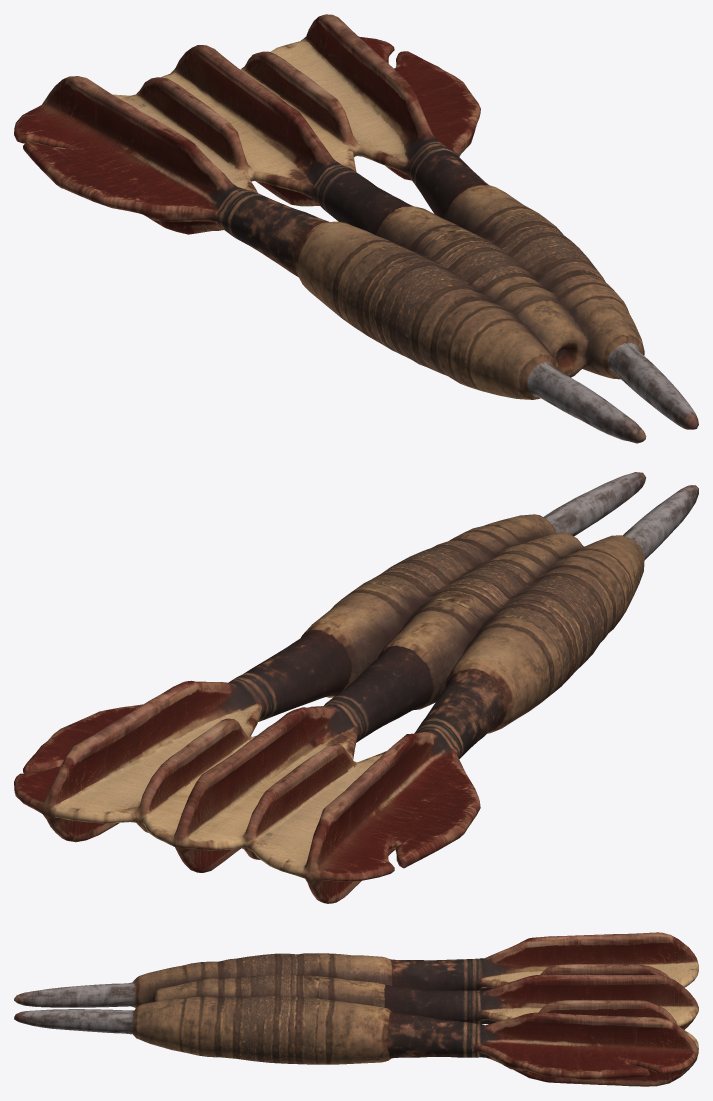
Rendered from bar-darts.glb.
The picture shows the model from 3 angles, top to bottom: view 1: azimuth 30°, elevation 25°; view 2: azimuth 150°, elevation 25°; view 3: azimuth 270°, elevation 25°; orthographic projection. The views are drawn at different scales.
Size of the model in its own units: 0.4775 by 0.1113 by 1.
1 material, 1 textured.
